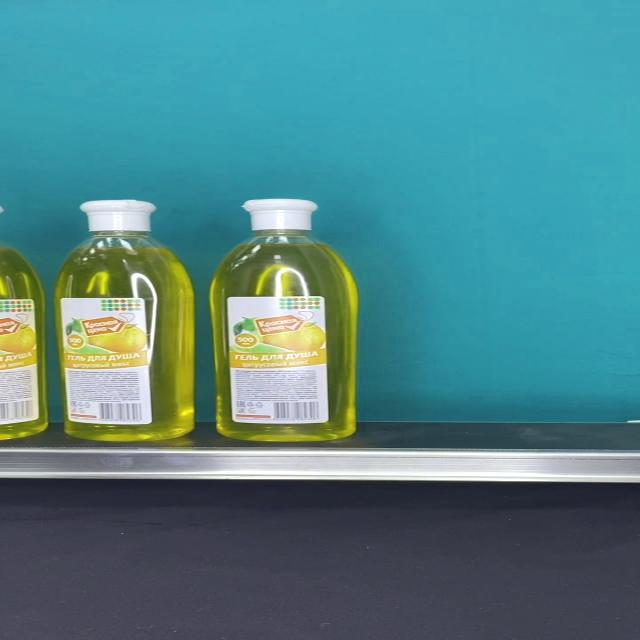Bottle: (210, 198, 358, 440), (55, 199, 194, 441)
Cap: (80, 199, 156, 232), (241, 198, 317, 230)
